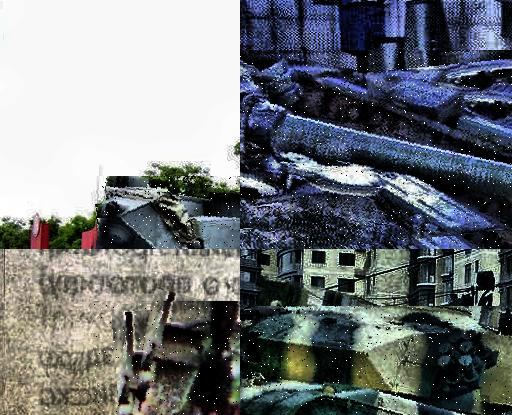tanks: (241, 65, 512, 249), (241, 307, 512, 415), (135, 303, 241, 415), (96, 178, 241, 250)
